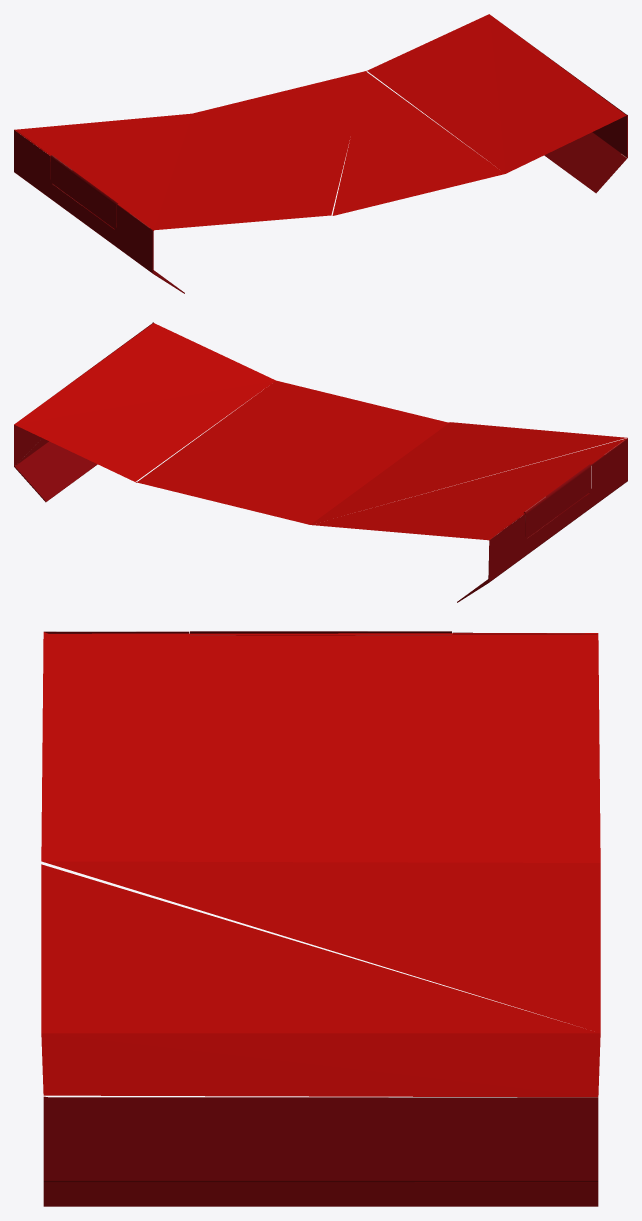
Rendered from top_chassis_mod.dae.
The picture shows the model from 3 angles, top to bottom: view 1: azimuth 30°, elevation 25°; view 2: azimuth 150°, elevation 25°; view 3: azimuth 270°, elevation 25°; orthographic projection. The views are drawn at different scales.
Parts seen in each view (by area): view 1: Top_Chassis; view 2: Top_Chassis; view 3: Top_Chassis.
Part boxes in pixels (x1=…): Top_Chassis: x1=14, y1=14, x2=627, y2=293; Top_Chassis: x1=14, y1=322, x2=627, y2=602; Top_Chassis: x1=41, y1=631, x2=600, y2=1206.
Size of the model in its own units: 0.812 by 0.4137 by 0.1173.
Materials: 1 (1 with a texture image).
